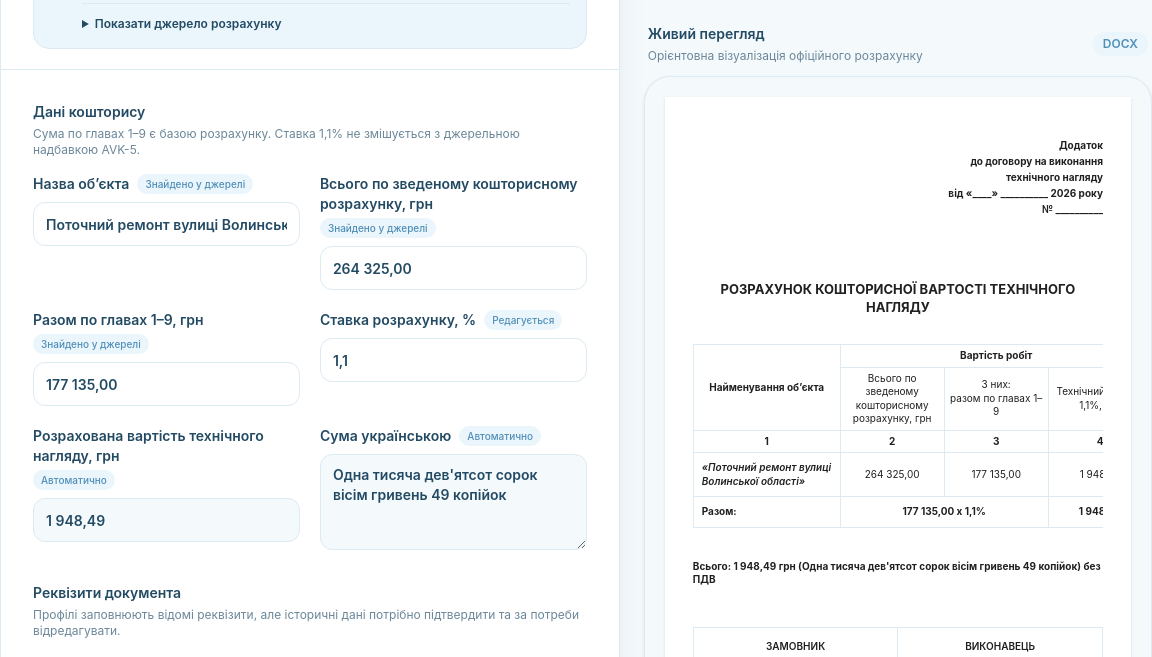
Test: TechnicalSupervisionCalculationStep › prefills source values, keeps 1.5% evidence separate, and recalculates the editable rate
(page scrolled)
Expected: the field labelled "Всього по зведеному кошторисному розрахунку, грн" holds "264 325,00", [320,246,587,290]
Expected: the field labelled "Разом по главах 1–9, грн Знайдено у джерелі" holds "177 135,00", [33,362,300,406]
Step 1. Type "1,5" into the field labelled "Ставка розрахунку, % Редагується" → (453, 360), box [320,338,587,382]
(page scrolled)
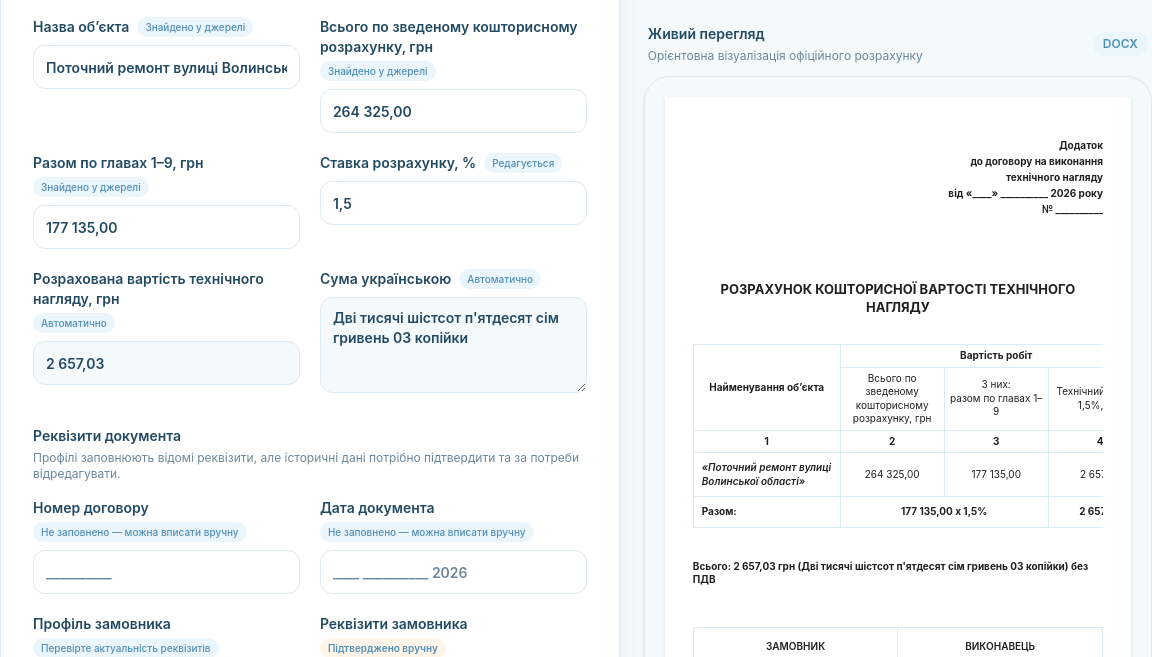
Now the field labelled "Розрахована вартість технічного нагляду, грн Автоматично" holds "2 657,03", box [33,341,300,385]
Now the element named "Живий перегляд розрахунку технічного нагляду" shows "2 657,03", box [1080,468,1120,480]
